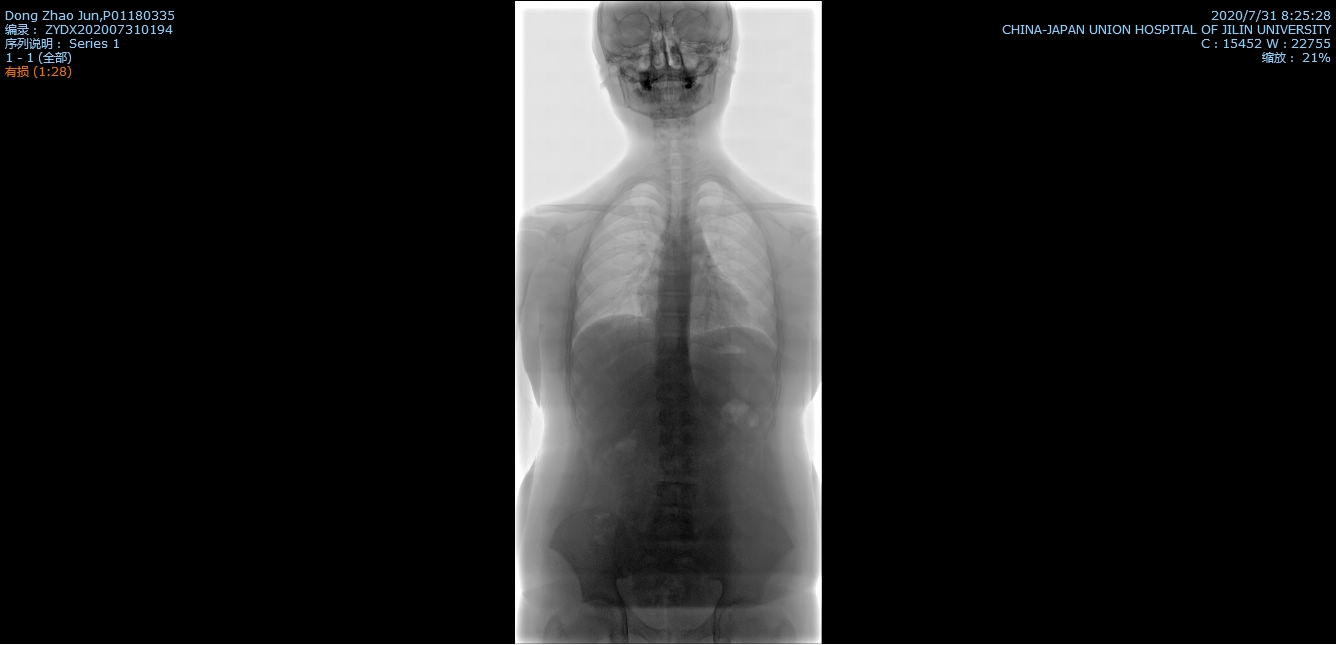Bone: (657, 516, 692, 538), (658, 483, 691, 504), (660, 455, 692, 475), (659, 385, 690, 404), (658, 411, 694, 427), (659, 360, 690, 378), (660, 431, 692, 448), (658, 295, 690, 312), (658, 338, 689, 355), (659, 315, 688, 333), (663, 251, 690, 270), (660, 274, 690, 291)
